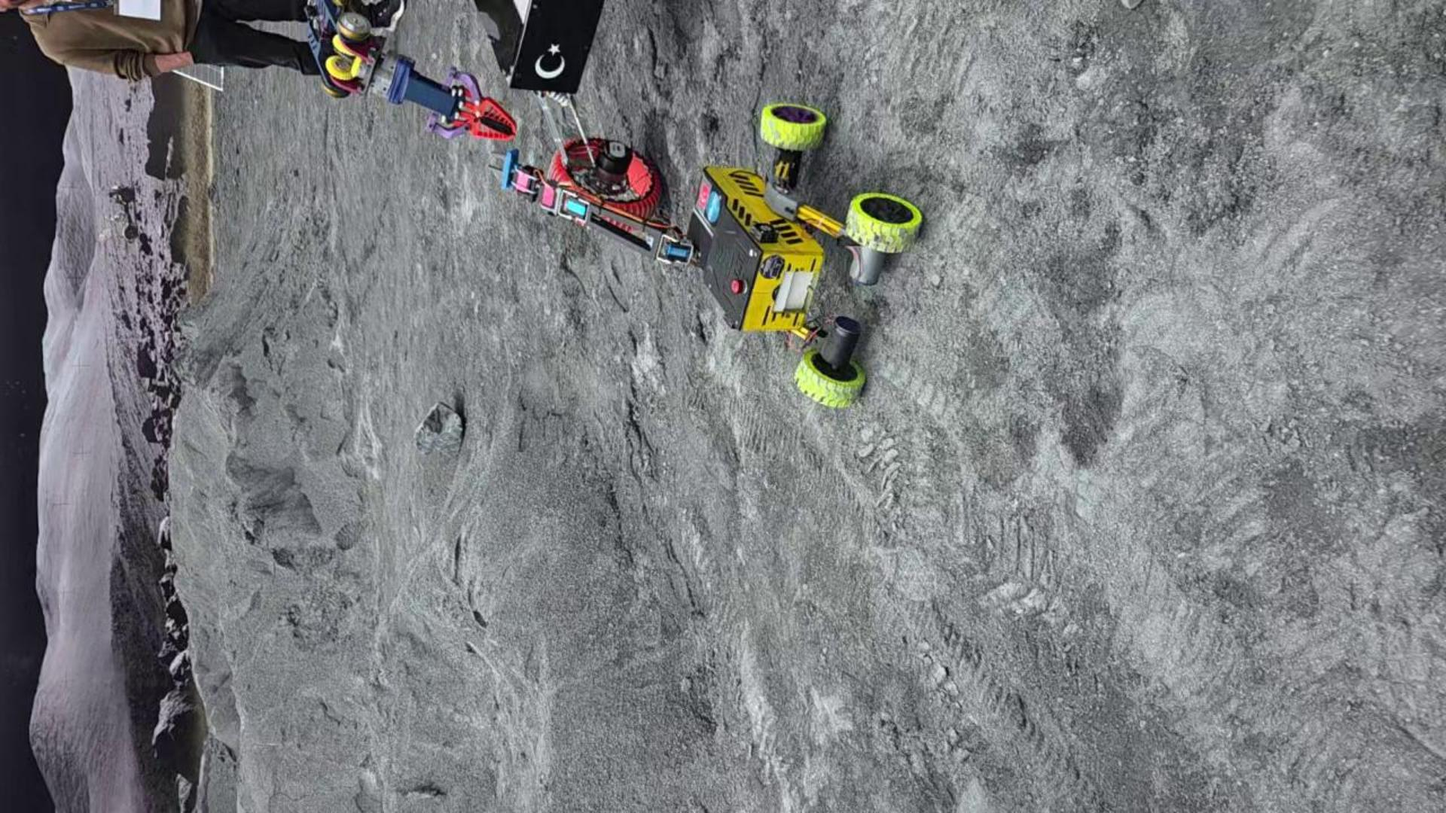rock: (415, 402, 463, 453)
